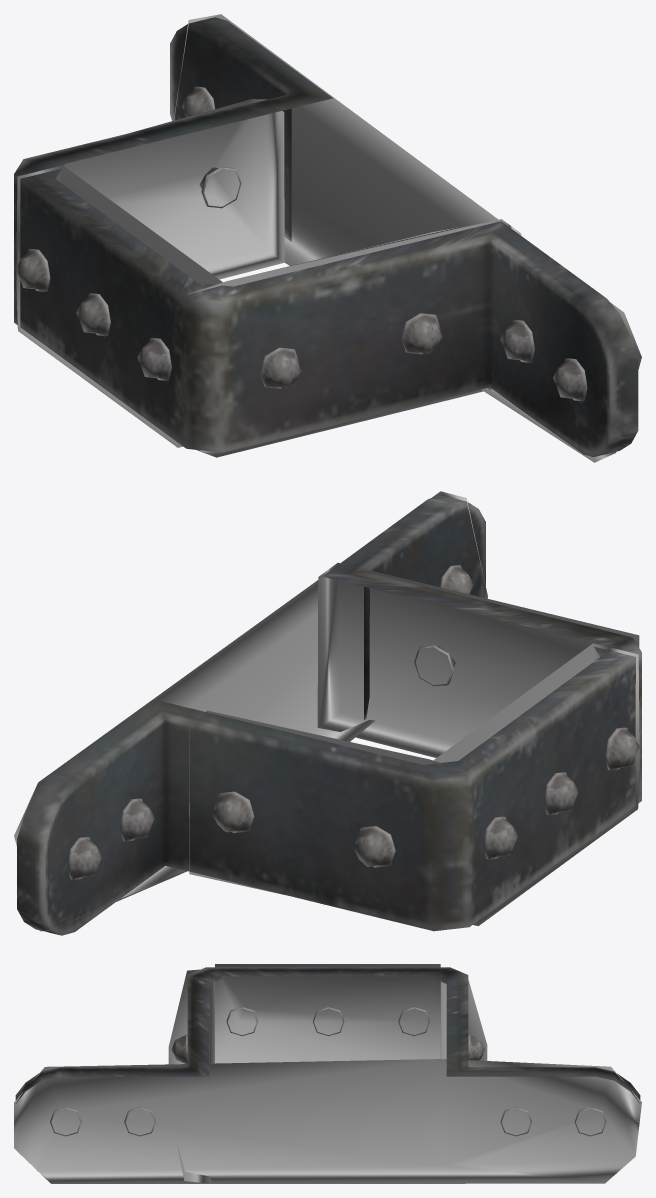
File: SM_Metal_Plate.gltf
3 renders of one model, top to bottom at view 1: azimuth 30°, elevation 25°; view 2: azimuth 150°, elevation 25°; view 3: azimuth 270°, elevation 25°, orthographic. The views are drawn at different scales.
Parts seen in each view (by area): view 1: SM_Metal_Plate_LOD0, SM_Metal_Plate_ConvexHulls; view 2: SM_Metal_Plate_LOD0, SM_Metal_Plate_ConvexHulls; view 3: SM_Metal_Plate_ConvexHulls, SM_Metal_Plate_LOD0.
Part boxes in pixels (<box>): SM_Metal_Plate_LOD0: <box>14,17,638,457</box>; SM_Metal_Plate_ConvexHulls: <box>16,14,641,462</box>; SM_Metal_Plate_LOD0: <box>17,495,641,935</box>; SM_Metal_Plate_ConvexHulls: <box>14,491,639,931</box>; SM_Metal_Plate_ConvexHulls: <box>14,964,641,1183</box>; SM_Metal_Plate_LOD0: <box>15,967,640,1136</box>.
Size of what is drawn, in the model's own units: 0.308 by 0.134 by 0.6934.
